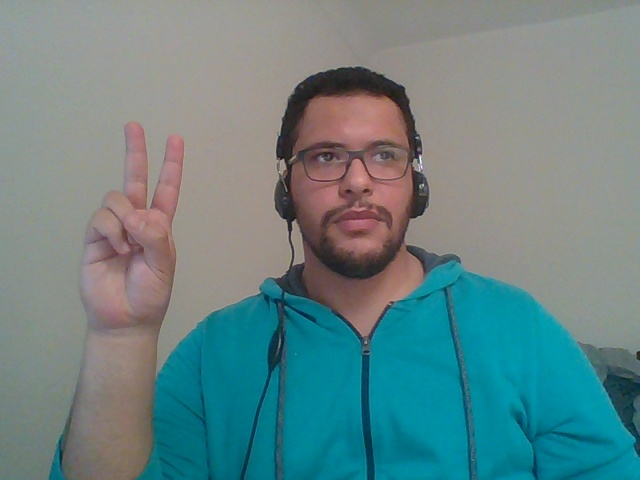vectory: (60, 111, 198, 339)
